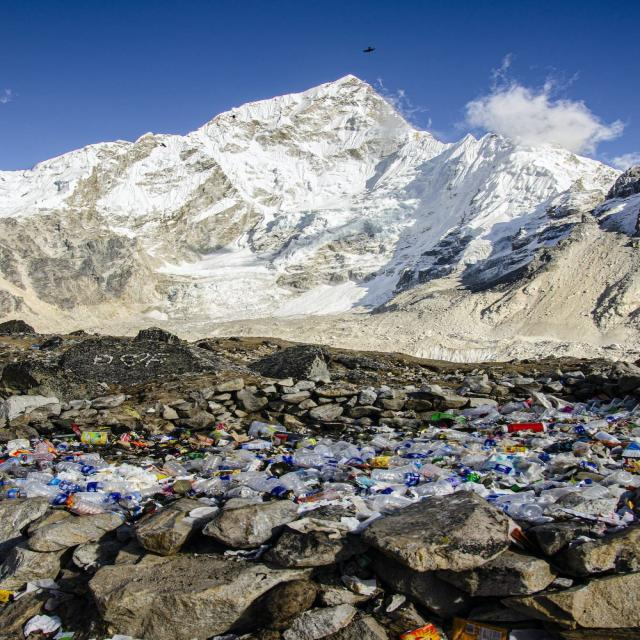trash: (21, 364, 615, 564)
